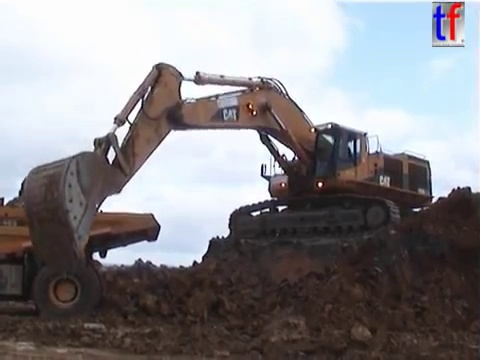excavator: (18, 59, 438, 276)
truck: (1, 200, 165, 325)
